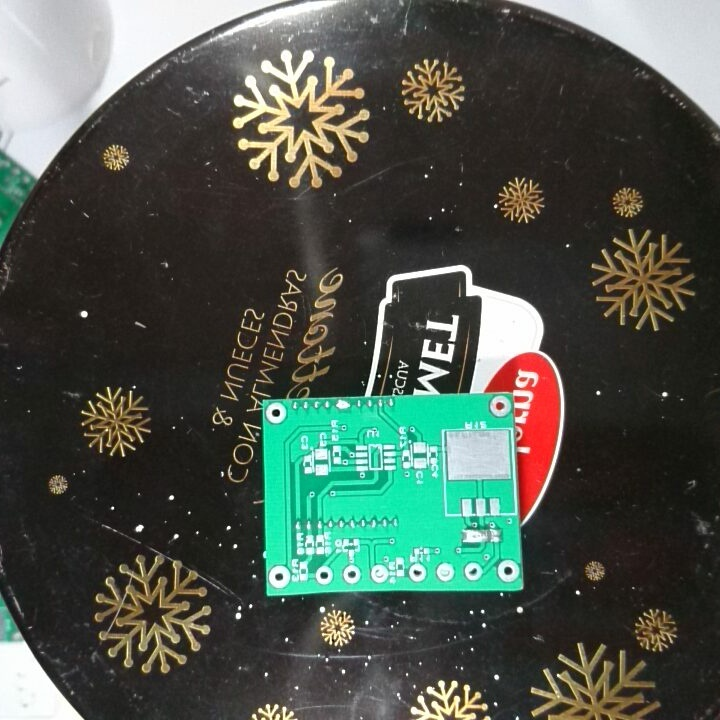F: (495, 556, 521, 586), (266, 562, 291, 590), (263, 402, 288, 427), (487, 395, 513, 418), (433, 560, 457, 584), (462, 559, 485, 583), (368, 563, 391, 586), (340, 563, 362, 586), (313, 563, 334, 587), (406, 562, 428, 583)
P: (460, 526, 490, 546), (334, 397, 352, 413)
